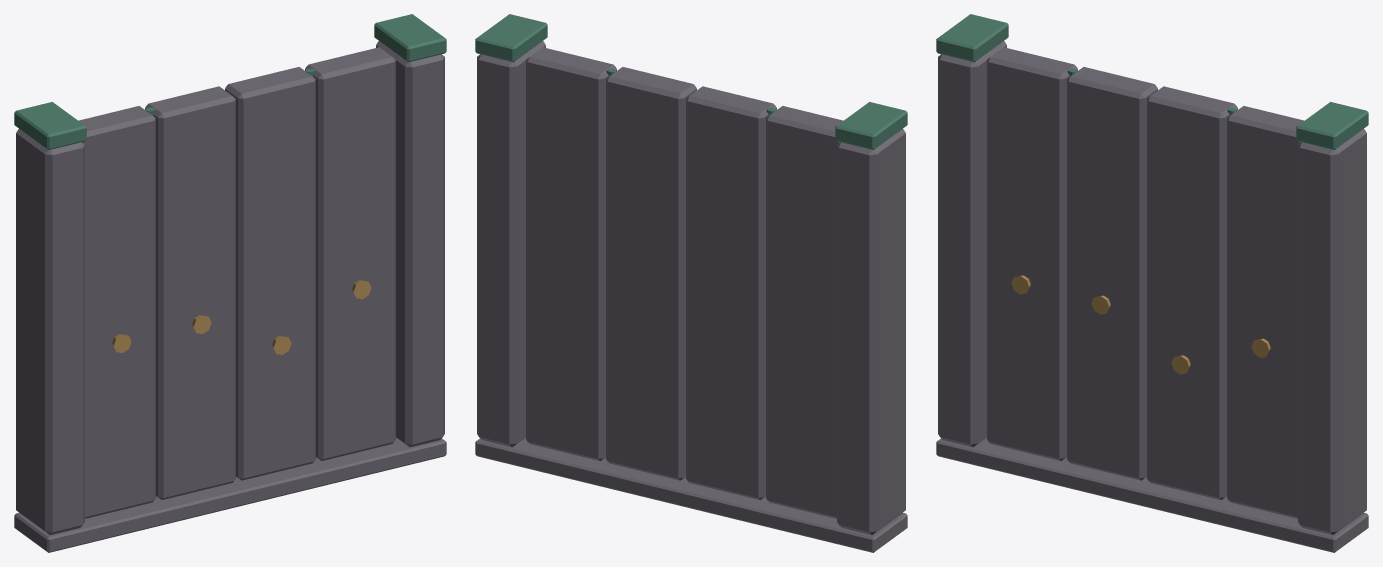
File: Bld_Lab_FoldWall_4m_Closed.glb
3 views of the same model, side by side, from view 1: azimuth 30°, elevation 25°; view 2: azimuth 150°, elevation 25°; view 3: azimuth 330°, elevation 25° (orthographic).
Visible parts, largest first — view 1: Bld_Lab_FoldWall_4m_Closed, Bld_Lab_FoldWall_4m_Closed_Panel2, Bld_Lab_FoldWall_4m_Closed_Panel3, Bld_Lab_FoldWall_4m_Closed_Panel1, Bld_Lab_FoldWall_4m_Closed_Panel0; view 2: Bld_Lab_FoldWall_4m_Closed, Bld_Lab_FoldWall_4m_Closed_Panel2, Bld_Lab_FoldWall_4m_Closed_Panel3, Bld_Lab_FoldWall_4m_Closed_Panel1, Bld_Lab_FoldWall_4m_Closed_Panel0; view 3: Bld_Lab_FoldWall_4m_Closed, Bld_Lab_FoldWall_4m_Closed_Panel1, Bld_Lab_FoldWall_4m_Closed_Panel2, Bld_Lab_FoldWall_4m_Closed_Panel0, Bld_Lab_FoldWall_4m_Closed_Panel3.
Part boxes in pixels (<box>): Bld_Lab_FoldWall_4m_Closed: <box>14,14,446,552</box>; Bld_Lab_FoldWall_4m_Closed_Panel2: <box>225,67,315,480</box>; Bld_Lab_FoldWall_4m_Closed_Panel3: <box>305,47,395,460</box>; Bld_Lab_FoldWall_4m_Closed_Panel1: <box>145,86,235,499</box>; Bld_Lab_FoldWall_4m_Closed_Panel0: <box>78,106,155,518</box>; Bld_Lab_FoldWall_4m_Closed: <box>475,14,907,552</box>; Bld_Lab_FoldWall_4m_Closed_Panel2: <box>606,67,696,480</box>; Bld_Lab_FoldWall_4m_Closed_Panel3: <box>526,47,616,460</box>; Bld_Lab_FoldWall_4m_Closed_Panel1: <box>686,86,776,499</box>; Bld_Lab_FoldWall_4m_Closed_Panel0: <box>766,106,843,518</box>; Bld_Lab_FoldWall_4m_Closed: <box>936,14,1368,552</box>; Bld_Lab_FoldWall_4m_Closed_Panel1: <box>1067,67,1157,480</box>; Bld_Lab_FoldWall_4m_Closed_Panel2: <box>1147,86,1237,499</box>; Bld_Lab_FoldWall_4m_Closed_Panel0: <box>987,47,1077,460</box>; Bld_Lab_FoldWall_4m_Closed_Panel3: <box>1227,106,1304,518</box>.
Size of what is drawn, in the model's own units: 4 by 4 by 0.6.
